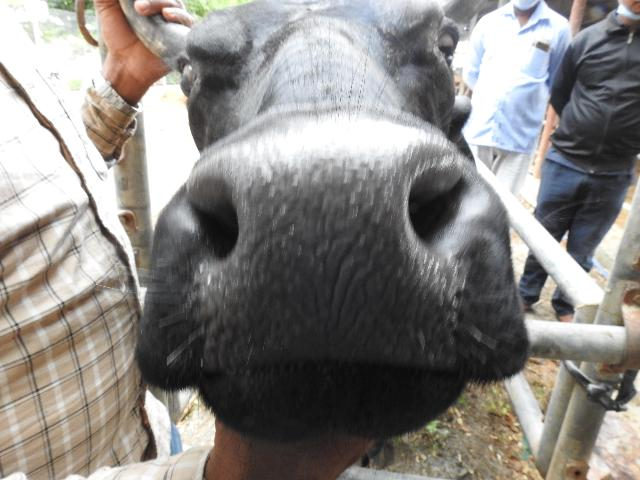Muzzle: (212, 155, 438, 361)
